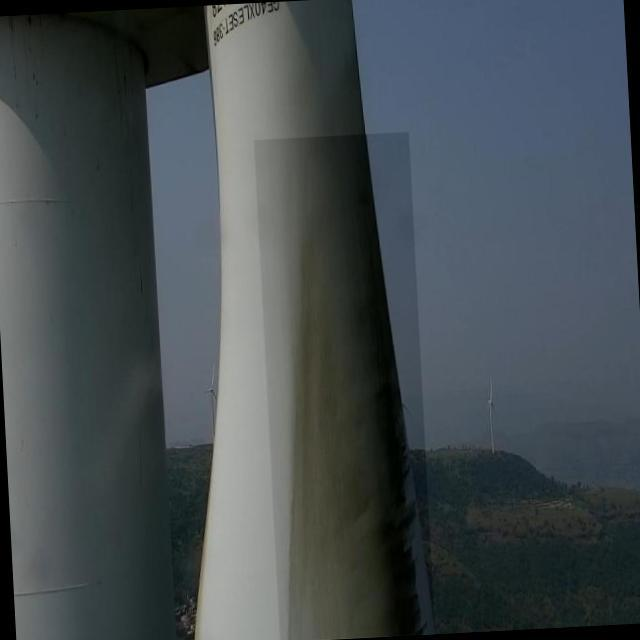Dirt: (284, 141, 429, 640)
